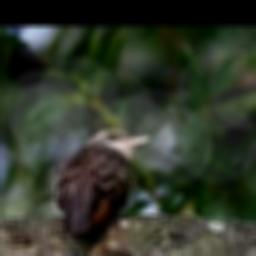Cuckoo: (53, 129, 151, 237)
